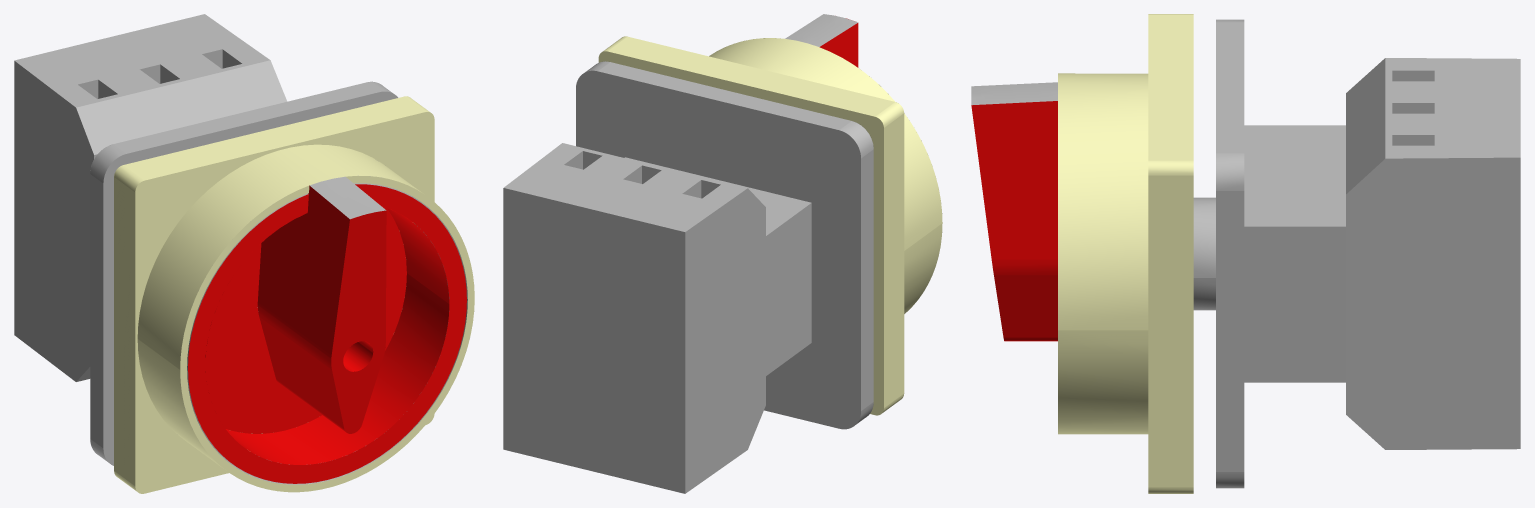
Rendered from GLD11-25.glb.
3 views of the same model, side by side, from view 1: azimuth 30°, elevation 25°; view 2: azimuth 150°, elevation 25°; view 3: azimuth 270°, elevation 25° (orthographic). The views are drawn at different scales.
Parts seen in each view (by area): view 1: _GLD11-25_54, _GLD11-25_55, _GLD11-25_10, _GLD11-25_111, _GLD11-25_109, _GLD11-25_15, _GLD11-25_61, _GLD11-25_100, _GLD11-25_60, _GLD11-25_99, _GLD11-25_90, _GLD11-25_44 (+12 smaller); view 2: _GLD11-25_62, _GLD11-25_33, _GLD11-25_54, _GLD11-25_61, _GLD11-25_10, _GLD11-25_38, _GLD11-25_34, _GLD11-25_44, _GLD11-25_46, _GLD11-25_25, _GLD11-25_23, _GLD11-25_65 (+4 smaller); view 3: _GLD11-25_52, _GLD11-25_10, _GLD11-25_36, _GLD11-25_40, _GLD11-25_61, _GLD11-25_101, _GLD11-25_35, _GLD11-25_65, _GLD11-25_21, _GLD11-25_46, _GLD11-25_60, _GLD11-25_23 (+7 smaller).
Boxes of the visible parts, bbox=[...] form: _GLD11-25_54: bbox=[14, 61, 93, 381]; _GLD11-25_55: bbox=[135, 112, 434, 493]; _GLD11-25_10: bbox=[137, 144, 467, 369]; _GLD11-25_111: bbox=[188, 184, 466, 483]; _GLD11-25_109: bbox=[205, 207, 406, 433]; _GLD11-25_15: bbox=[188, 273, 449, 464]; _GLD11-25_61: bbox=[14, 14, 270, 107]; _GLD11-25_100: bbox=[258, 185, 349, 355]; _GLD11-25_60: bbox=[76, 60, 287, 154]; _GLD11-25_99: bbox=[331, 210, 386, 433]; _GLD11-25_90: bbox=[180, 176, 474, 492]; _GLD11-25_44: bbox=[114, 177, 135, 485]; _GLD11-25_62: bbox=[503, 188, 685, 493]; _GLD11-25_33: bbox=[576, 70, 860, 429]; _GLD11-25_54: bbox=[685, 188, 765, 493]; _GLD11-25_61: bbox=[504, 143, 747, 231]; _GLD11-25_10: bbox=[709, 38, 942, 250]; _GLD11-25_38: bbox=[766, 203, 811, 375]; _GLD11-25_34: bbox=[598, 51, 883, 415]; _GLD11-25_44: bbox=[884, 113, 904, 407]; _GLD11-25_46: bbox=[607, 36, 894, 116]; _GLD11-25_25: bbox=[861, 149, 873, 410]; _GLD11-25_23: bbox=[598, 62, 851, 129]; _GLD11-25_65: bbox=[904, 223, 942, 313]; _GLD11-25_52: bbox=[1346, 157, 1520, 449]; _GLD11-25_10: bbox=[1058, 73, 1148, 330]; _GLD11-25_36: bbox=[1244, 226, 1345, 382]; _GLD11-25_40: bbox=[1148, 175, 1193, 487]; _GLD11-25_61: bbox=[1385, 58, 1520, 158]; _GLD11-25_101: bbox=[971, 101, 1057, 259]; _GLD11-25_35: bbox=[1244, 125, 1345, 226]; _GLD11-25_65: bbox=[1058, 330, 1148, 434]; _GLD11-25_21: bbox=[1216, 191, 1244, 471]; _GLD11-25_46: bbox=[1148, 15, 1193, 160]; _GLD11-25_60: bbox=[1346, 58, 1385, 193]; _GLD11-25_23: bbox=[1216, 22, 1244, 153].
Bounding box in the file's own units: 65 × 65 × 97.4.
